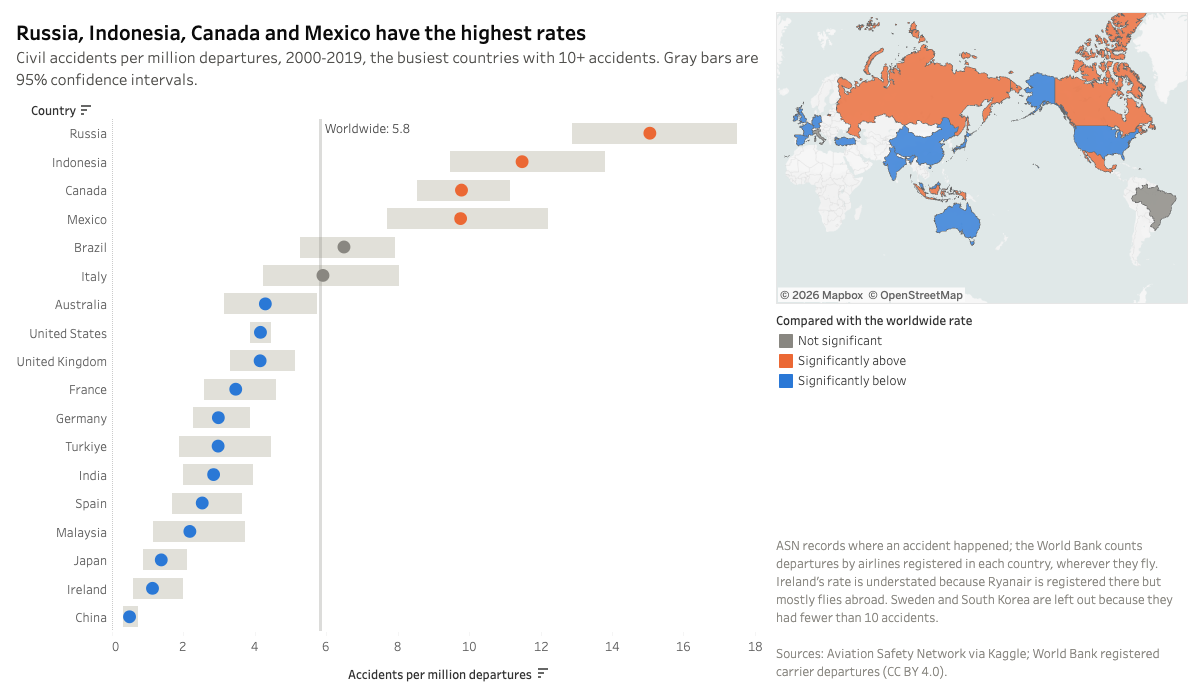

What the dashboard file says about the page in this screenshot:
{"tool":"tableau","page":{"name":"3 Country rates","canvas":[1200,700],"ordinal":2},"visuals":[{"type":"worksheet","title":"Country rates","mark":"Automatic","rows":["country"],"cols":["accidents_per_million_departures","ci_low"],"box":[8,8,764,684]},{"type":"worksheet","title":"Country map","mark":"Multipolygon","box":[772,8,420,300]},{"type":"legend","title":"Country rates","param":"[federated.0cb3xtw0f8oqjx15xeig100kabyn].[none:vs_world_rate:nk]","box":[772,308,420,217]},{"type":"text","box":[772,525,420,167]}]}

Visuals, with their boxes in screenshot pixels (x1, y1, x2, y2), scaled from the page's 1200x700 canvas onto the 1200x700 screenshot:
"Country rates" worksheet: {"left": 8, "top": 8, "right": 772, "bottom": 692}
"Country map" worksheet (Multipolygon marks): {"left": 772, "top": 8, "right": 1192, "bottom": 308}
"Country rates" legend: {"left": 772, "top": 308, "right": 1192, "bottom": 525}
text: {"left": 772, "top": 525, "right": 1192, "bottom": 692}
